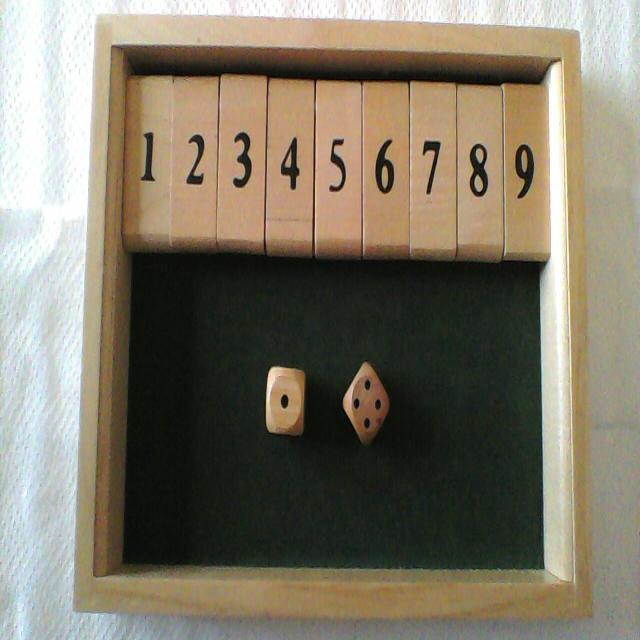1: (264, 366, 307, 438)
4: (340, 358, 392, 450)
C1: (122, 15, 170, 253)
C2: (172, 15, 216, 254)
C3: (221, 17, 264, 255)
C4: (268, 18, 313, 258)
C5: (316, 20, 361, 257)
C6: (365, 21, 407, 259)
C7: (411, 23, 455, 261)
C8: (459, 24, 502, 262)
C9: (506, 27, 550, 262)
